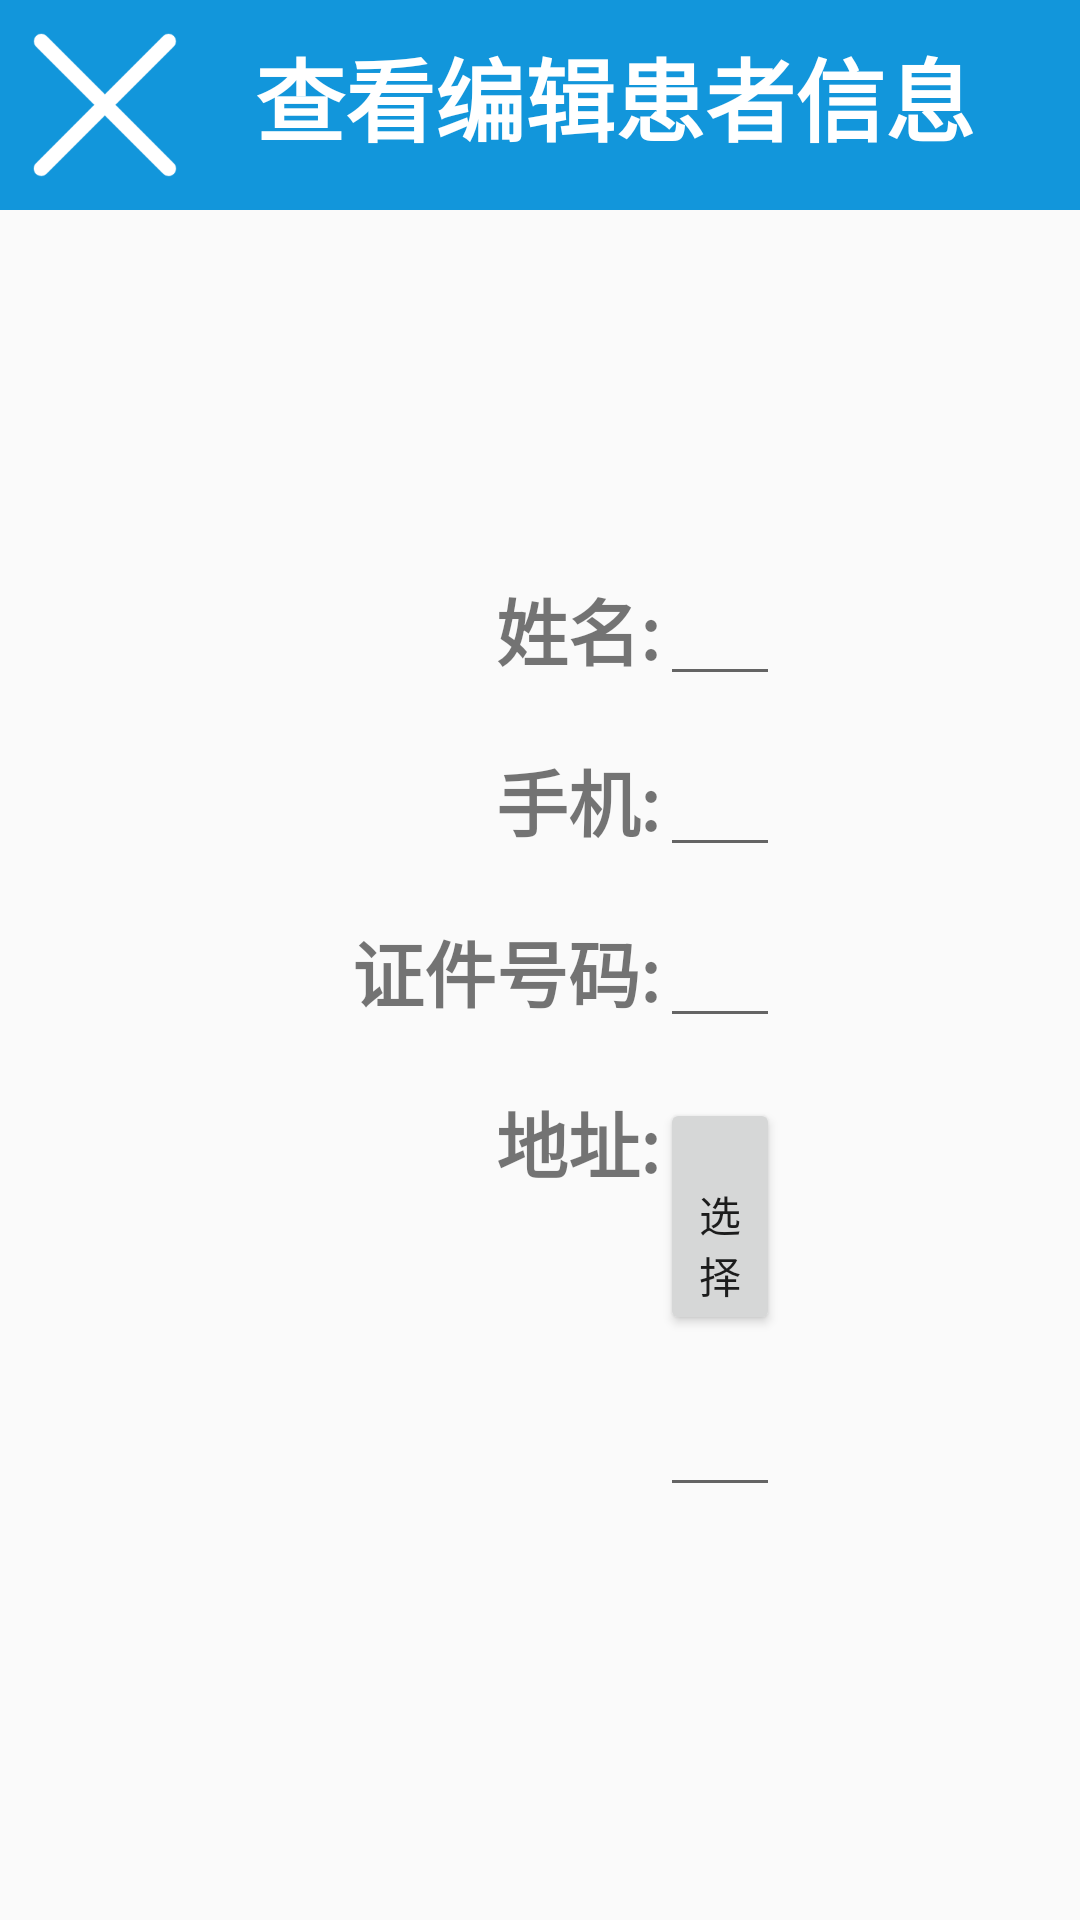

Icon bounding boxes for this 1080px x 1920px phone screenshot, format (x1, y1, x2, y2):
close: (33, 33, 177, 177)
